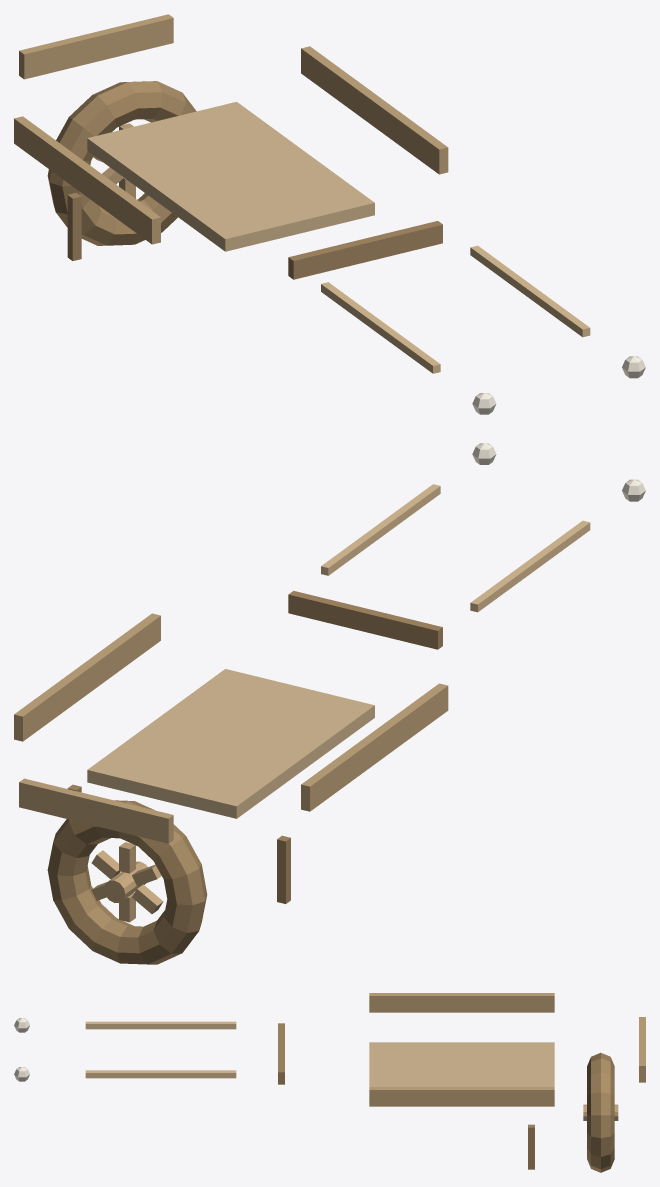
Rendered from Open_Cart.glb.
3 views of the same model, one above another, from view 1: azimuth 30°, elevation 25°; view 2: azimuth 150°, elevation 25°; view 3: azimuth 270°, elevation 25° (orthographic). The views are drawn at different scales.
Visible parts, largest first — view 1: Open_Cart; view 2: Open_Cart; view 3: Open_Cart.
Boxes of the visible parts, x1=… form: Open_Cart: x1=14, y1=14, x2=645, y2=414; Open_Cart: x1=14, y1=443, x2=645, y2=964; Open_Cart: x1=14, y1=993, x2=645, y2=1172.
Size of the model in its own units: 0.99 by 0.6 by 2.73.
